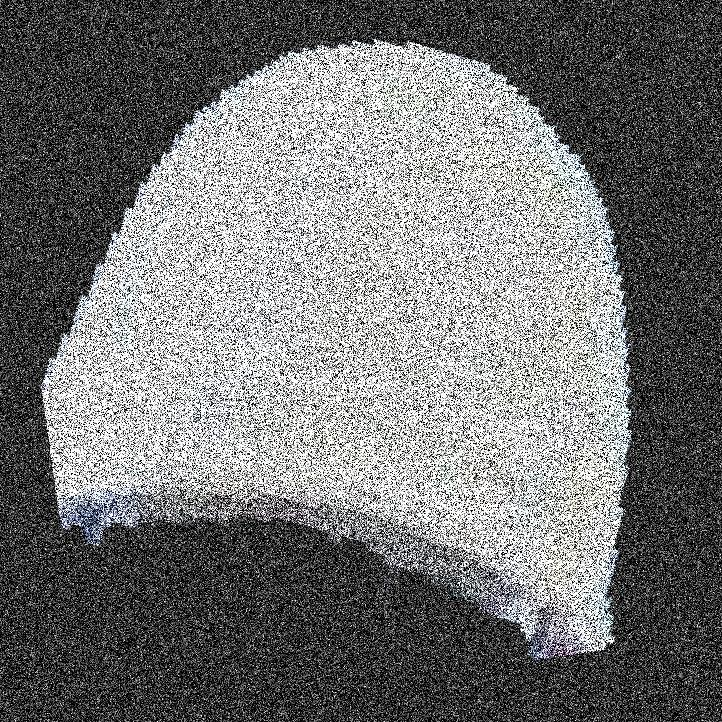Capacete: (107, 0, 610, 721)
